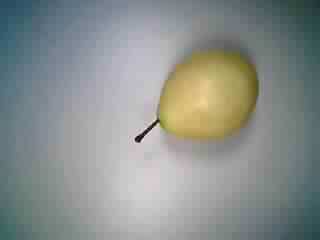pear: (113, 49, 272, 153)
